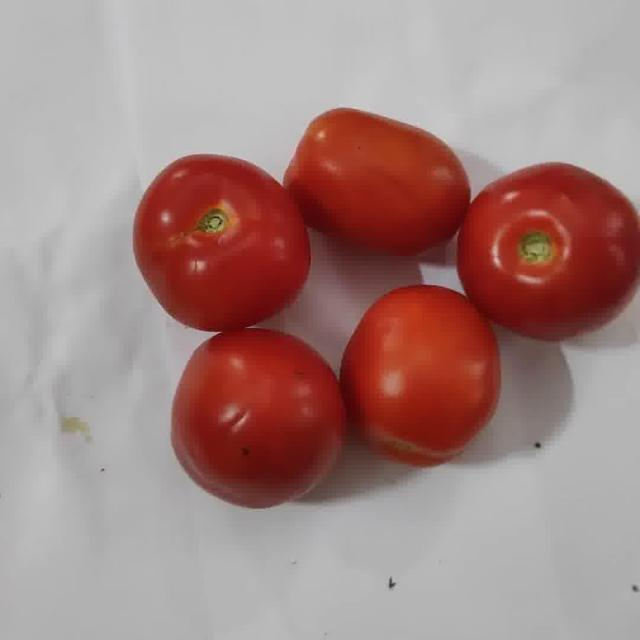Tomato: (456, 162, 639, 340), (134, 155, 310, 331), (171, 330, 344, 507), (340, 285, 501, 465), (284, 109, 470, 254)
